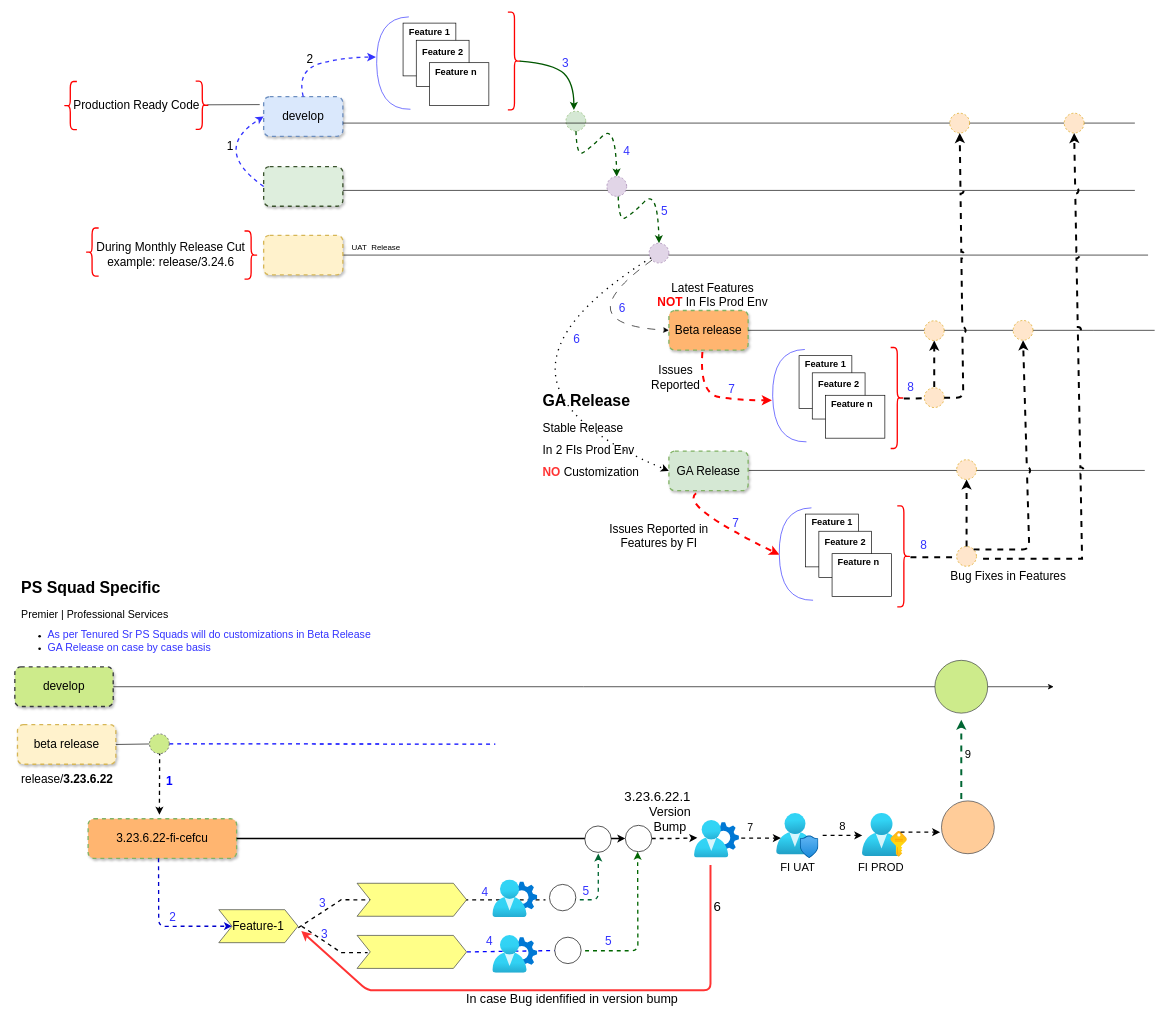
Image size: 1167x1023. Some labels were removed from this diagram. The centre of each missing label's shape, as x and y in pixels:
Feature1-dev1: the point at 411,899
Feature1-dev2: the point at 411,951
master: the point at 303,187
release: the point at 303,256
